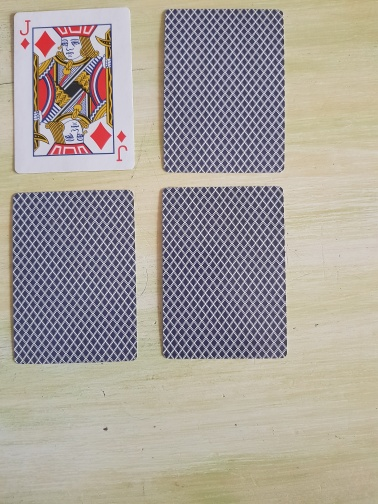jack: (12, 7, 134, 172)
